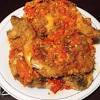ayam_geprek: (6, 1, 96, 85)
